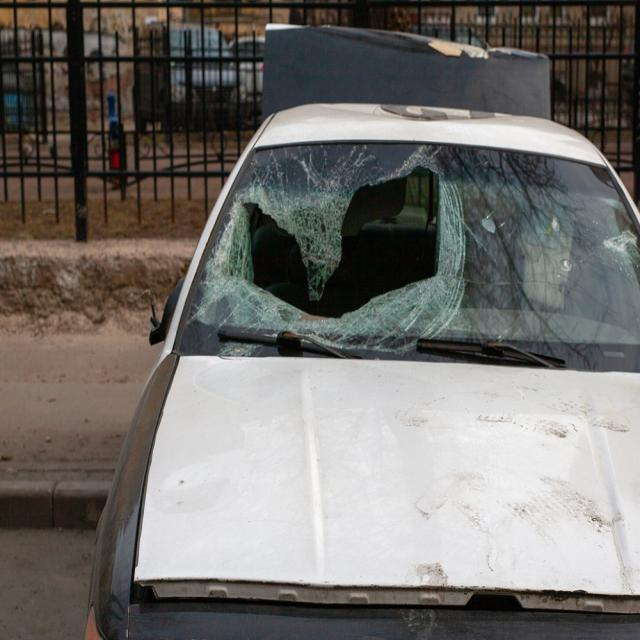glass shatter: (179, 142, 640, 374)
